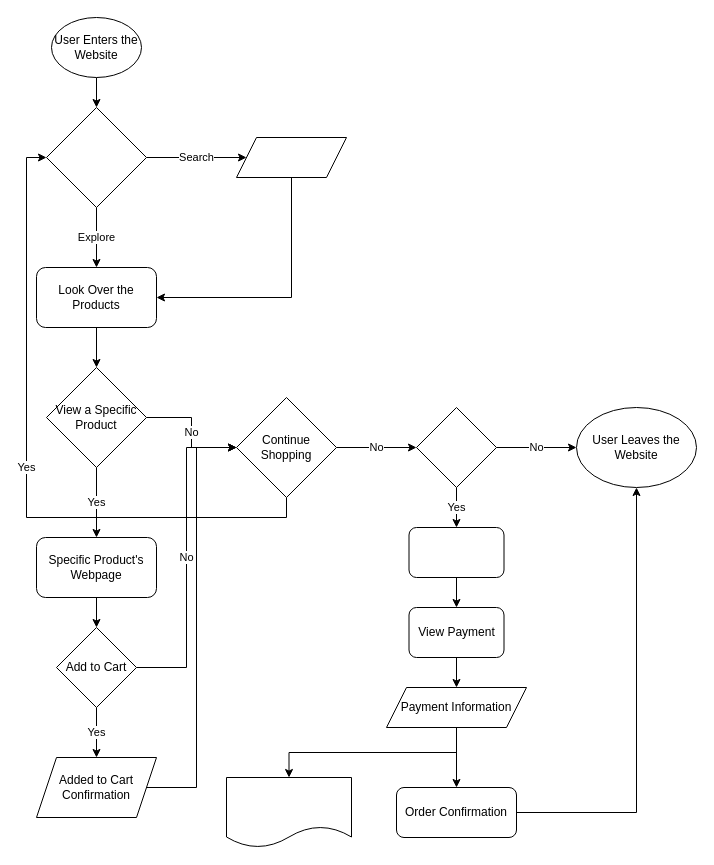
The diagram is 714 pixels wide and 865 high, and some of its shapes have lost their labels. Each missing label, with the centre of its shape:
Checkout: the point at 456,447
Confirmation Email: the point at 289,812
Search for a Product or Explore Products on Home Page: the point at 96,157
Search Input: the point at 291,157
View Cart: the point at 456,552
